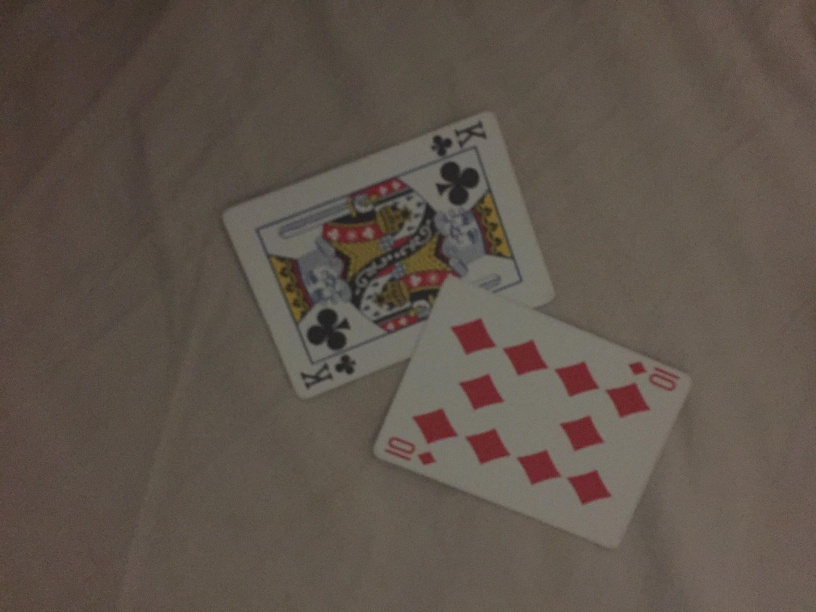10: (371, 268, 693, 548)
king: (220, 110, 558, 403)
